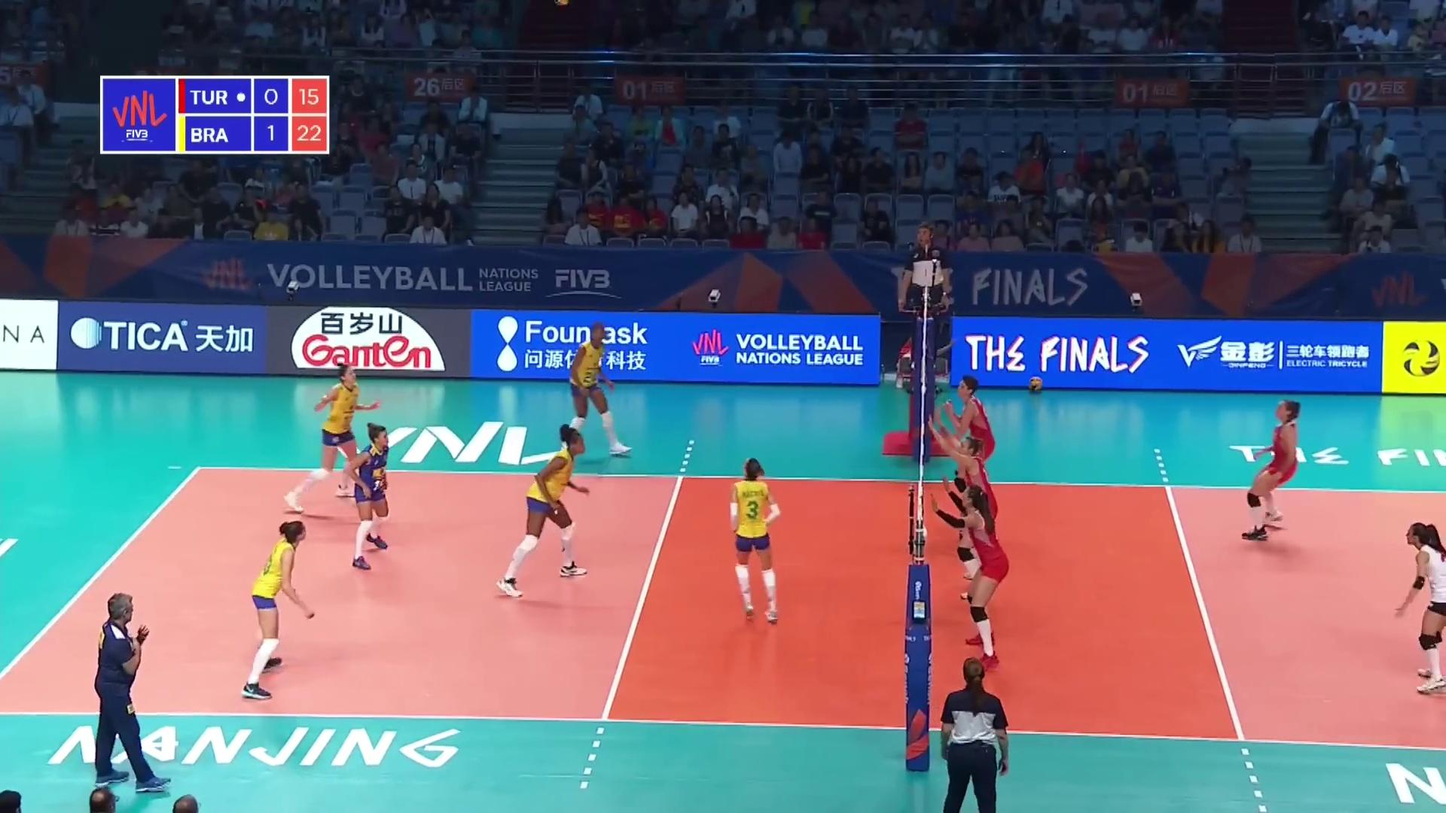player: (496, 424, 589, 600), (932, 477, 1010, 669), (284, 367, 377, 508), (242, 521, 315, 698), (932, 421, 1000, 599), (727, 458, 784, 622), (1393, 520, 1446, 694), (563, 324, 631, 457), (1242, 401, 1302, 540), (944, 375, 996, 529), (344, 424, 391, 570)
refree: (940, 657, 1010, 813), (901, 222, 950, 370)
